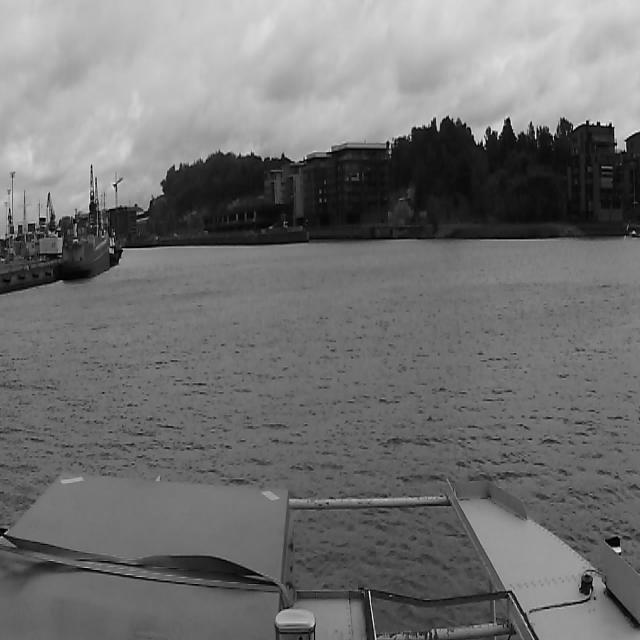ship: (59, 164, 109, 280)
